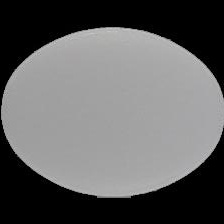70786-0136: (0, 0, 224, 224)
